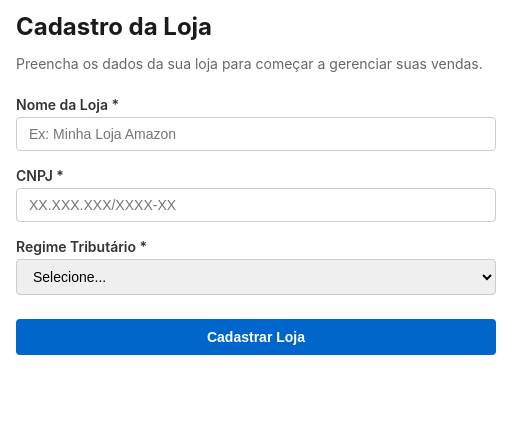
Test: SetupStorePage › displays generic server error message
Type "Minha Loja" into the field labelled "Nome da Loja *" at (256, 134), box left=16, top=117, right=496, bottom=151
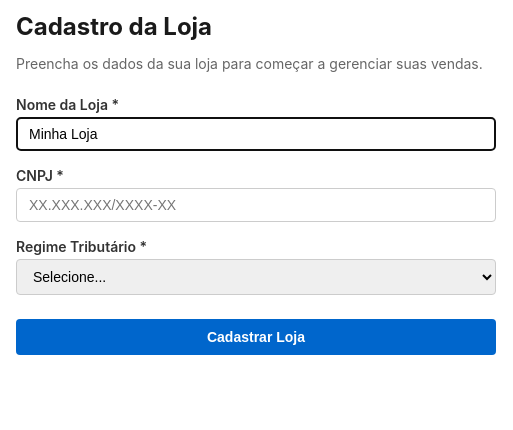
Type "11222333000181" into the field labelled "CNPJ *" at (256, 205), box left=16, top=188, right=496, bottom=222
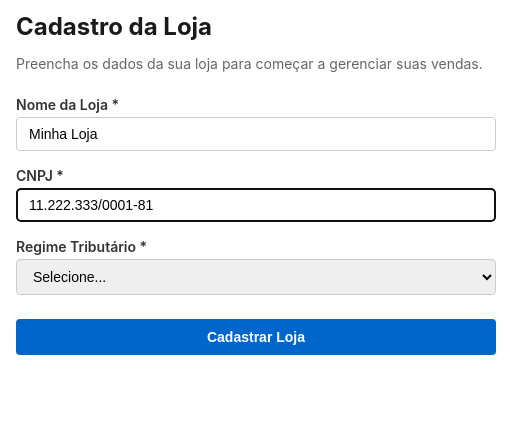
Select "MEI" in the dropdown labelled "Regime Tributário *" at (256, 277), box left=16, top=259, right=496, bottom=295
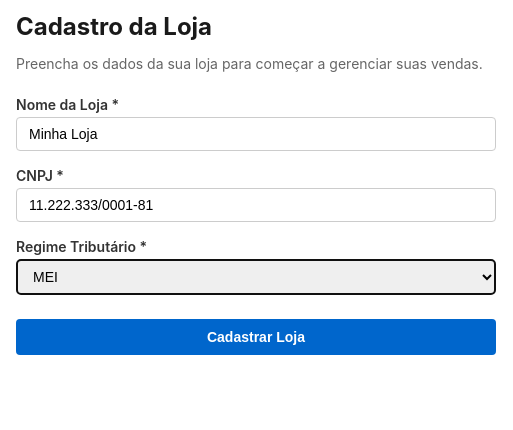
Click the button "Cadastrar Loja" at (256, 337), box left=16, top=319, right=496, bottom=355
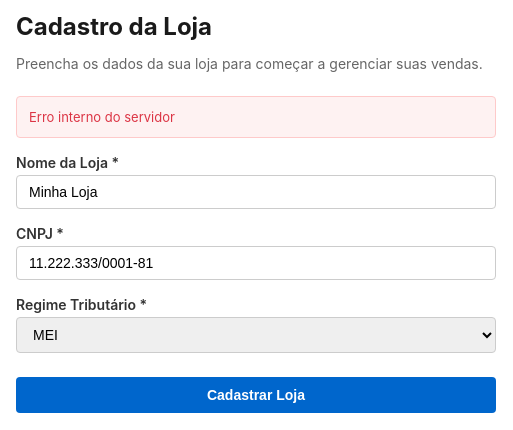
Expected: the text "Erro interno do servidor" is shown, left=16, top=96, right=496, bottom=138
